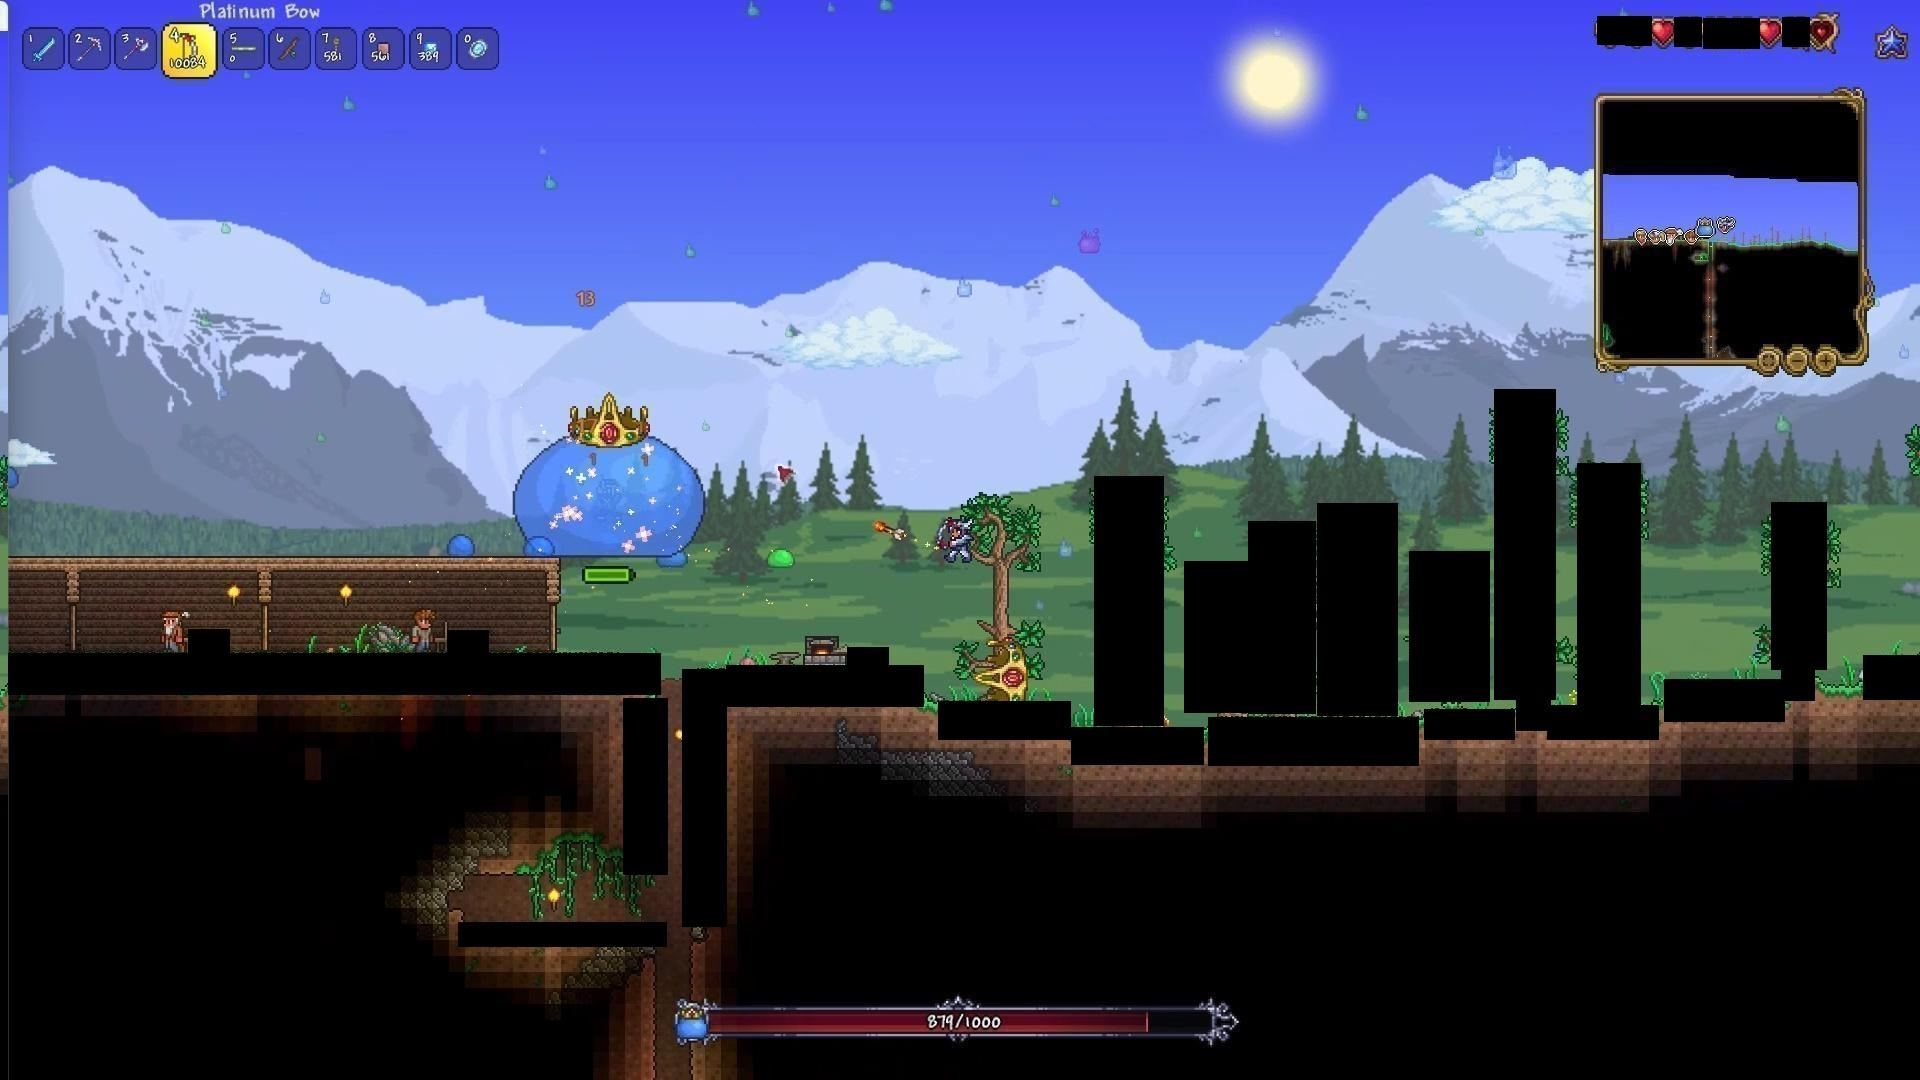dirt: (1820, 676, 1863, 705)
heart: (1648, 18, 1676, 47), (1756, 18, 1784, 47)
slime: (516, 531, 562, 560), (444, 527, 477, 556), (764, 545, 798, 572), (735, 651, 758, 673)
tree: (976, 488, 1030, 696)
